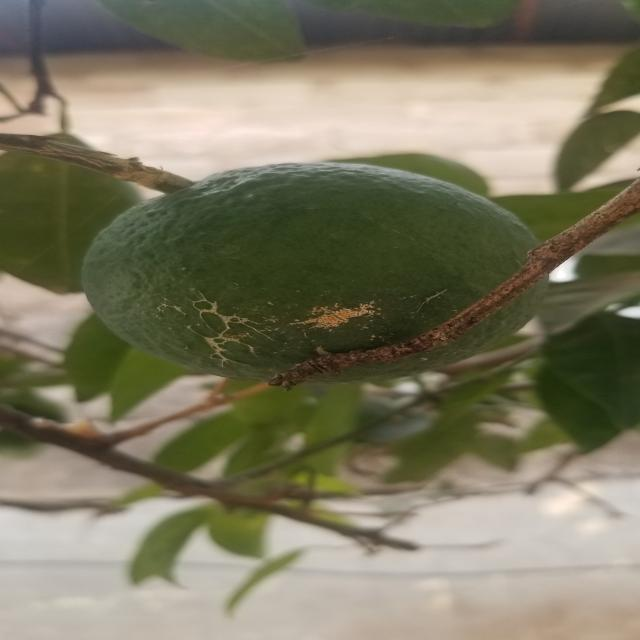Unripe: (55, 159, 578, 414)
